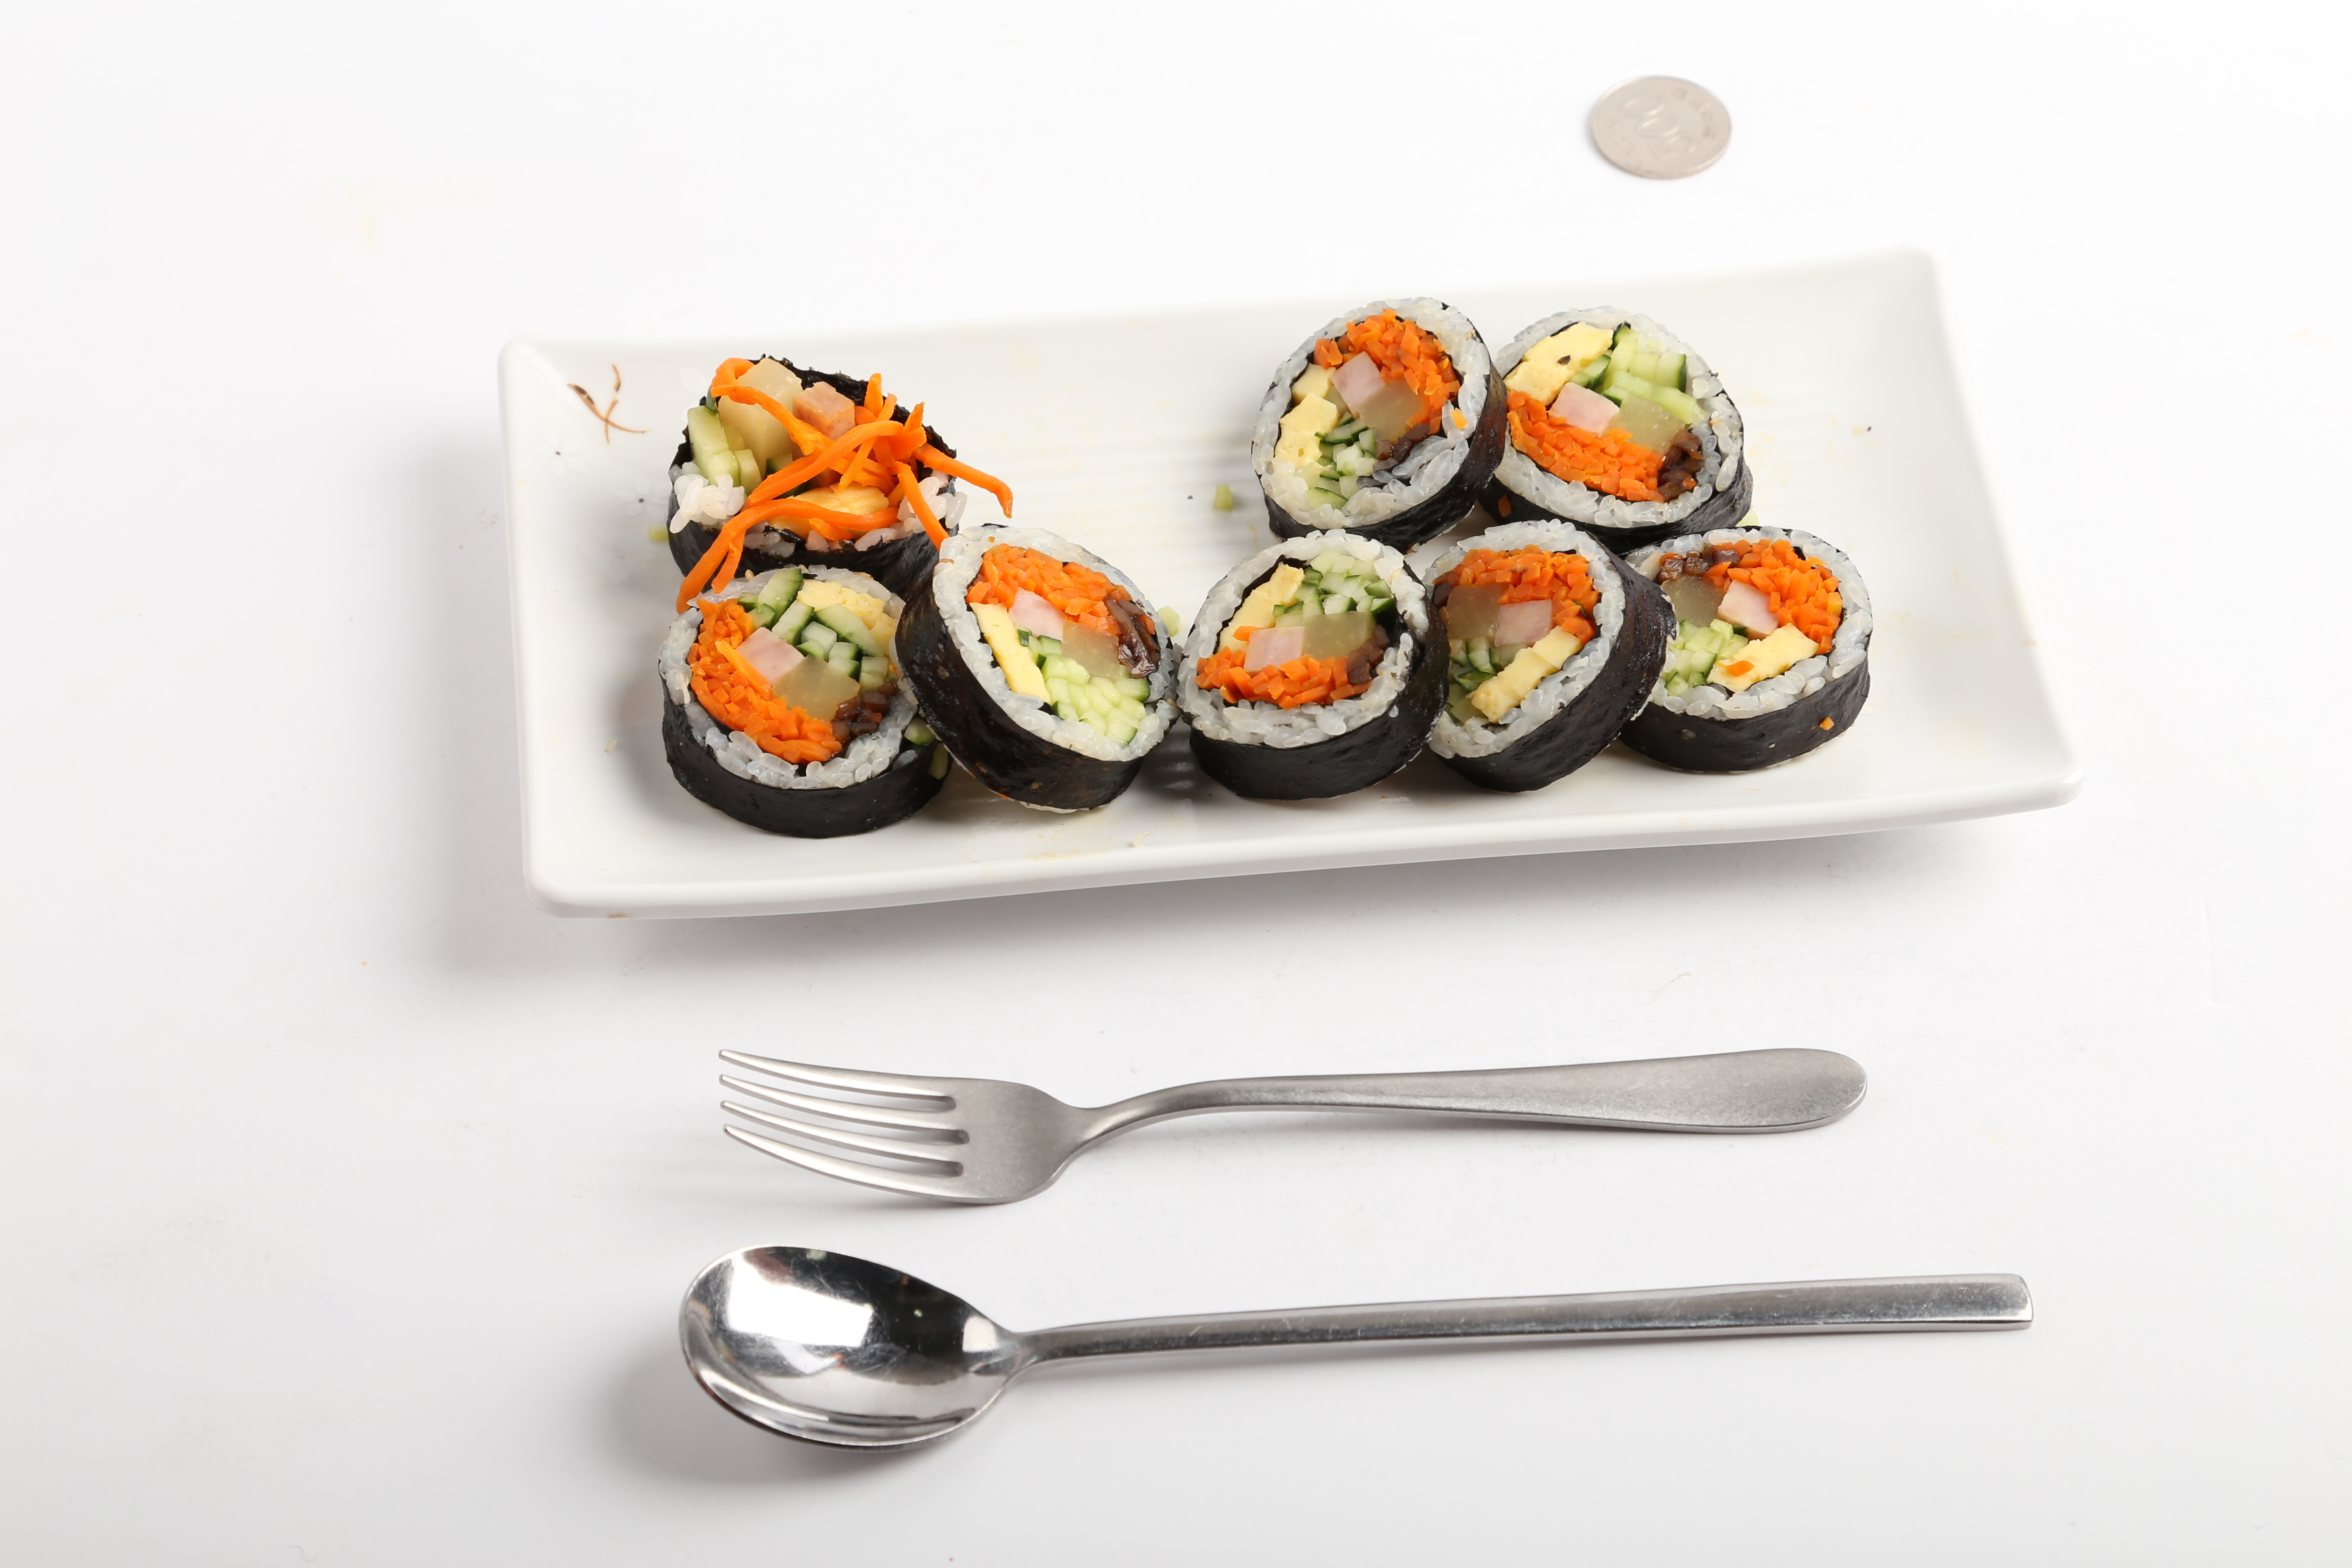dish: (490, 240, 2082, 927)
ref_coin: (1580, 61, 1734, 184)
ref_fork: (716, 1034, 1185, 1213)
ref_spoon: (672, 1237, 1099, 1459)
김밥: (654, 289, 1878, 840)
